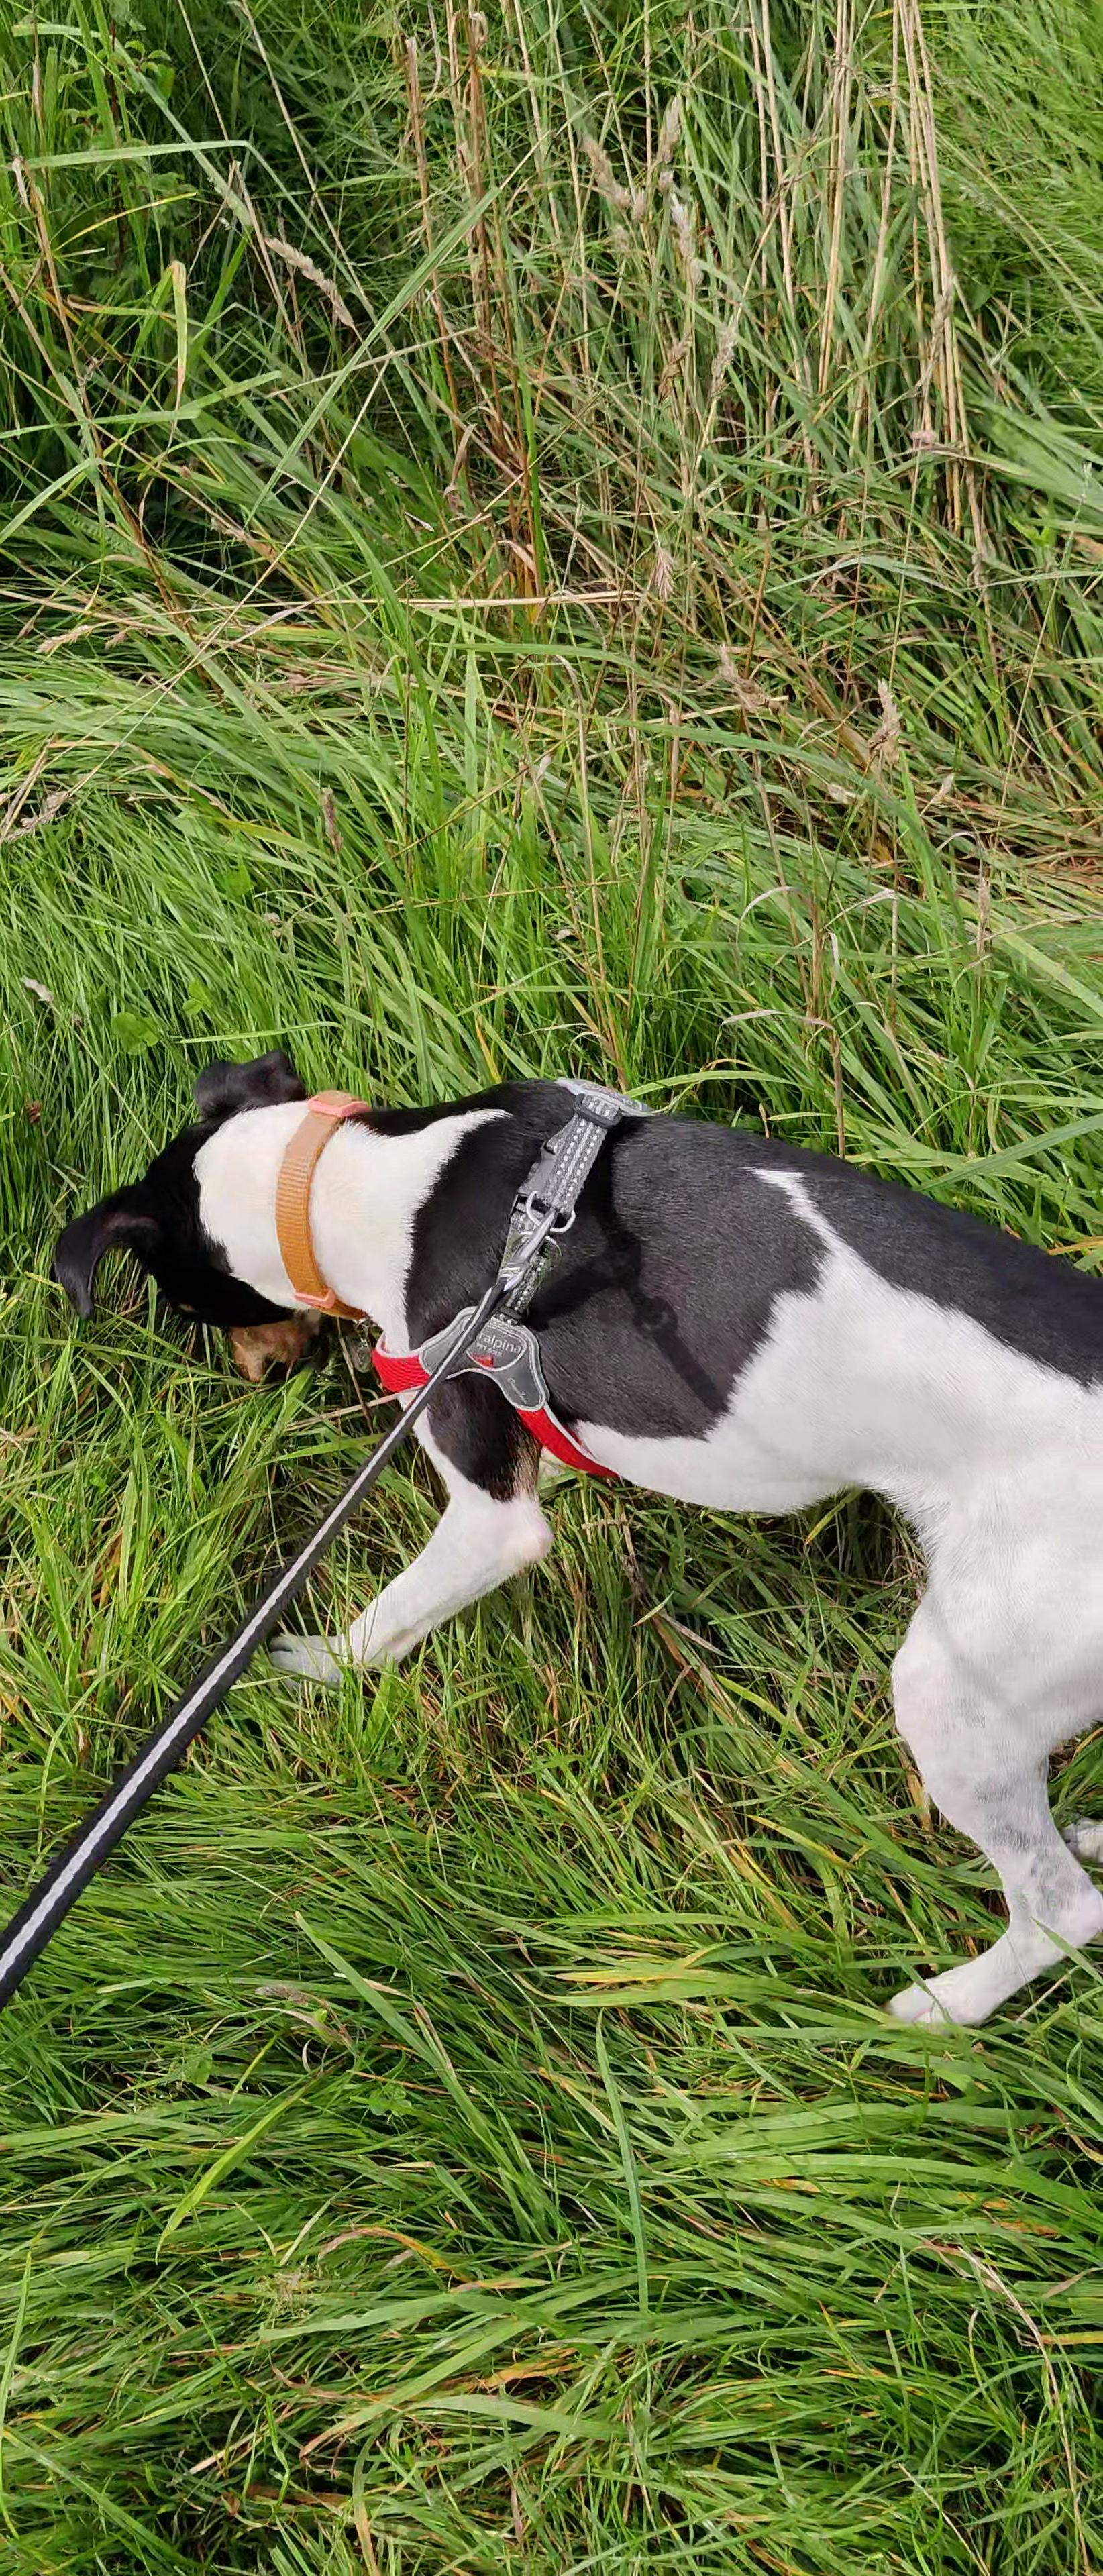Dog: (26, 1015, 1103, 2029)
